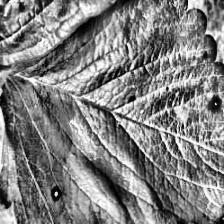Leaf Spot: (0, 0, 224, 224), (0, 0, 129, 67)
